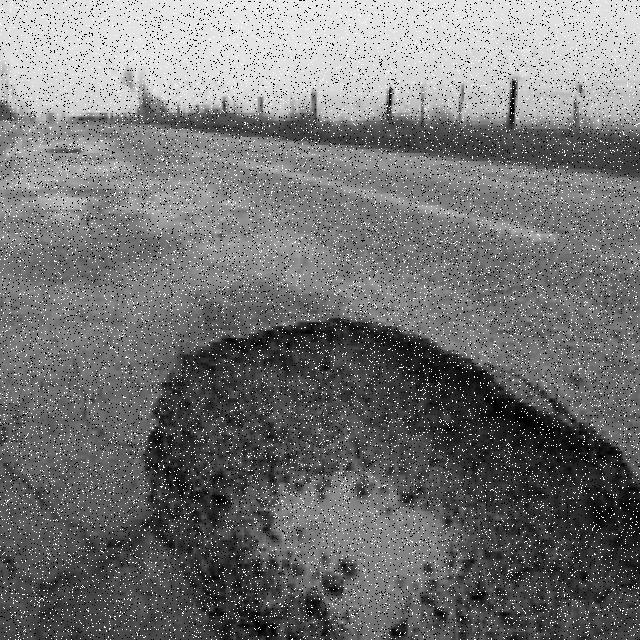pothole: (143, 318, 640, 640)
